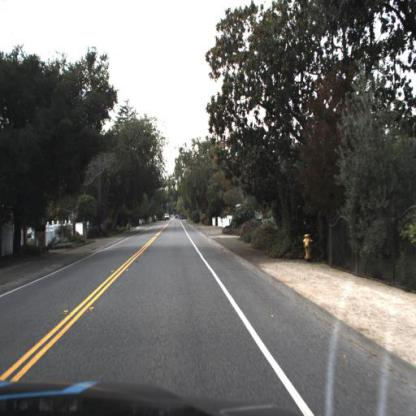car: (166, 215, 171, 222)
